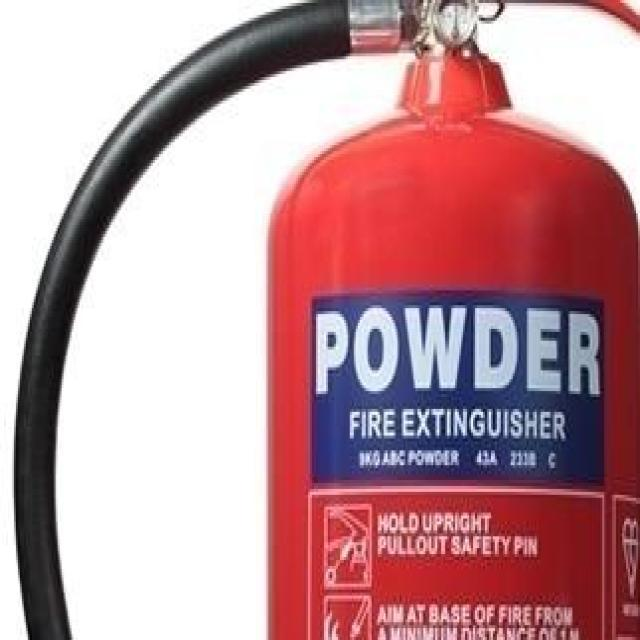fire_extinguisher: (6, 0, 638, 637)
